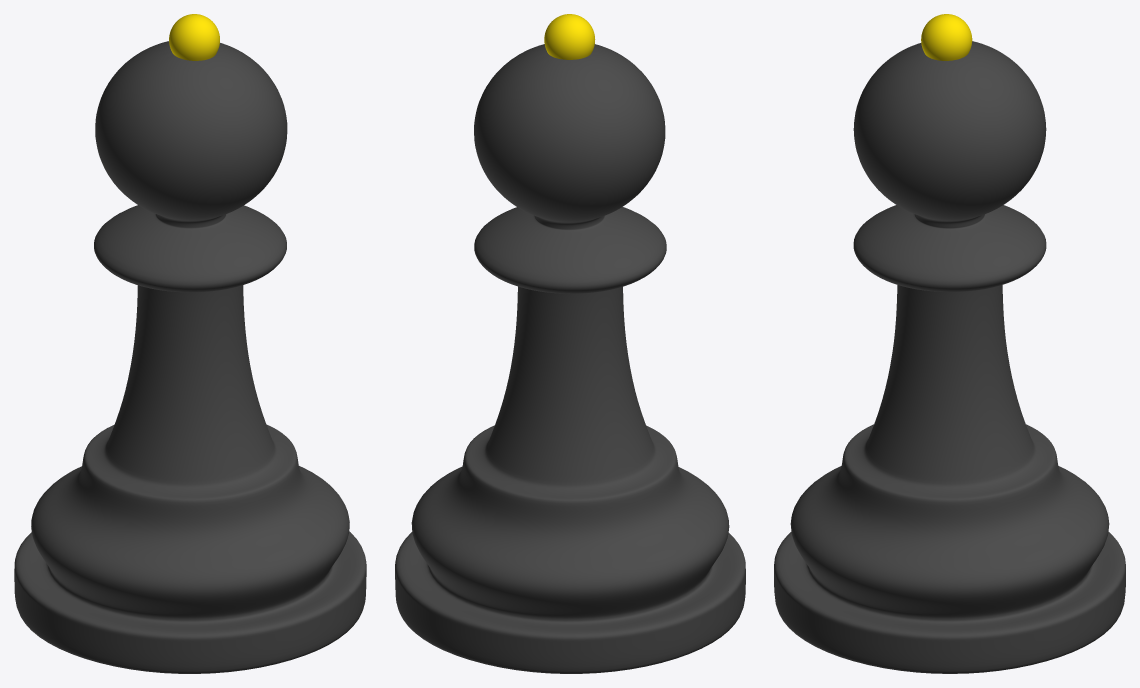
File: black pawn.fbx
3 renders of one model, left to right at view 1: azimuth 30°, elevation 25°; view 2: azimuth 150°, elevation 25°; view 3: azimuth 270°, elevation 25°, orthographic.
Visible parts, largest first — view 1: black pawn; view 2: black pawn; view 3: black pawn.
Boxes of the visible parts, bbox=[...] form: black pawn: bbox=[14, 14, 366, 673]; black pawn: bbox=[395, 14, 745, 673]; black pawn: bbox=[774, 14, 1125, 673].
Size of the model in its own units: 86.72 by 159 by 86.3.
